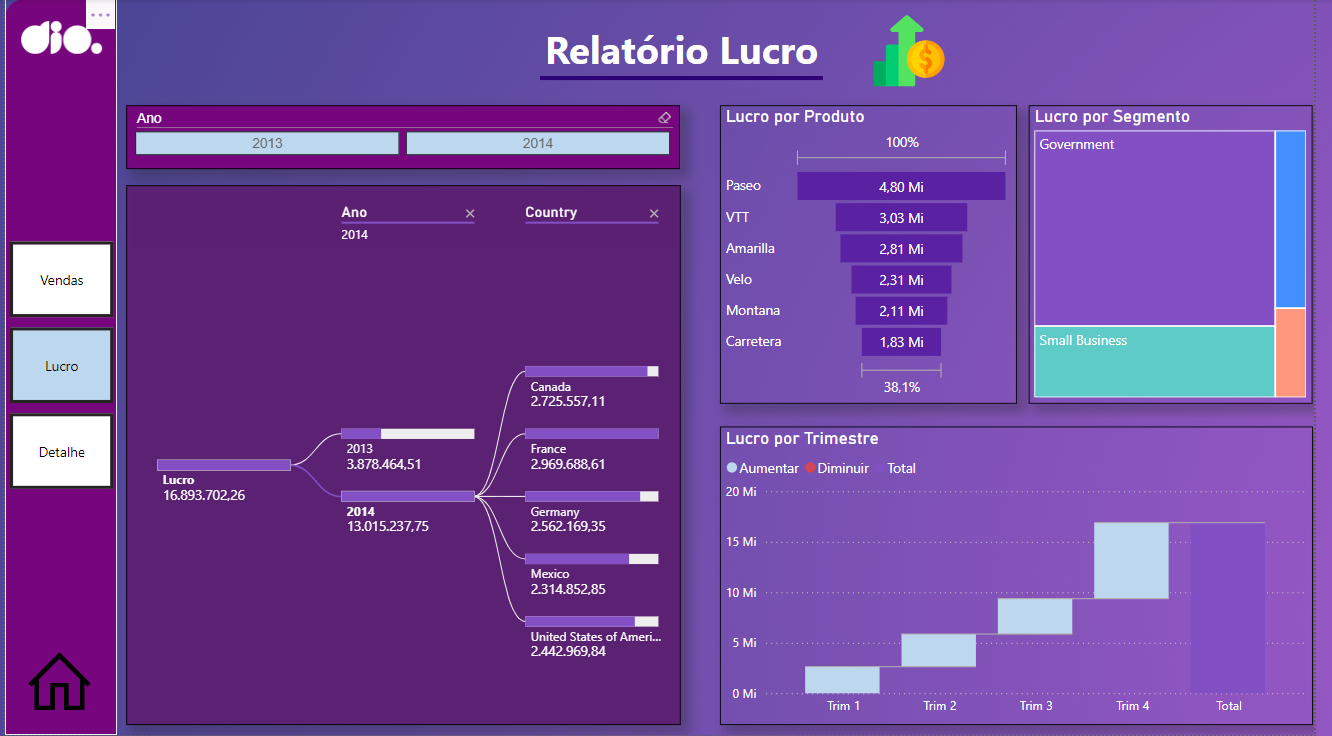

This screenshot's page, from the dashboard's own definition file:
{"tool":"powerbi","page":{"name":"Lucro","canvas":[1280,720],"ordinal":1},"visuals":[{"type":"shape","box":[0,0,108.8,720.2],"z":0},{"type":"image","box":[11,2.4,89.3,70.9],"z":1000},{"type":"shape","box":[523.4,59.3,276.8,37.2],"z":1000,"group":"g1"},{"type":"ChicletSlicer1448559807354","fields":{"Category":["financials.Date.Variation.Hierarquia de datas.Ano"]},"box":[118.6,103.9,541.7,62.4],"z":2000},{"type":"textbox","box":[523.4,18.3,478.3,64.3],"z":3000,"group":"g1"},{"type":"decompositionTreeVisual","fields":{"ExplainBy":["financials.Date.Variation.Hierarquia de datas.Ano","financials.Country"],"Analyze":["Sum(financials.Profit)"]},"box":[118.6,182.2,542.3,527.8],"z":3000},{"type":"waterfallChart","title":"Lucro por Trimestre","fields":{"Category":["financials.Date.Variation.Hierarquia de datas.Trimestre"],"Y":["Sum(financials.Profit)"]},"box":[699.9,417.9,579.9,292.1],"z":4000},{"type":"funnel","title":"Lucro por Produto","fields":{"Y":["Sum(financials.Profit)"],"Category":["financials.Product"]},"box":[699.9,104.1,290.7,292.1],"z":5000},{"type":"treemap","title":"Lucro por Segmento","fields":{"Values":["Sum(financials.Profit)"],"Group":["financials.Segment"]},"box":[1002.1,104.1,277.6,292.1],"z":6000},{"type":"group","id":"g1","title":"Título","box":[523.4,18.3,478.3,78.2],"z":7000},{"type":"image","box":[812,11,144.3,79.5],"z":8000},{"type":"pageNavigator","box":[4.3,237.1,101.2,244.4],"z":9000},{"type":"image","box":[4.3,629,96.9,81],"z":10000}]}

Visuals, with their boxes in screenshot pixels (x1, y1, x2, y2), scaled from the page's 1280x720 canvas onto the 1332x736 screenshot:
shape: <region>0, 0, 113, 735</region>
image: <region>11, 2, 104, 75</region>
shape: <region>545, 61, 833, 99</region>
ChicletSlicer1448559807354 - financials.Date.Variation.Hierarquia de datas.Ano: <region>123, 106, 687, 170</region>
textbox: <region>545, 19, 1042, 84</region>
decompositionTreeVisual - financials.Date.Variation.Hierarquia de datas.Ano x financials.Country: <region>123, 186, 688, 726</region>
"Lucro por Trimestre" waterfallChart: <region>728, 427, 1331, 726</region>
"Lucro por Produto" funnel: <region>728, 106, 1031, 405</region>
"Lucro por Segmento" treemap: <region>1043, 106, 1331, 405</region>
"Título" group: <region>545, 19, 1042, 99</region>
image: <region>845, 11, 995, 93</region>
pageNavigator: <region>4, 242, 110, 492</region>
image: <region>4, 643, 105, 726</region>
